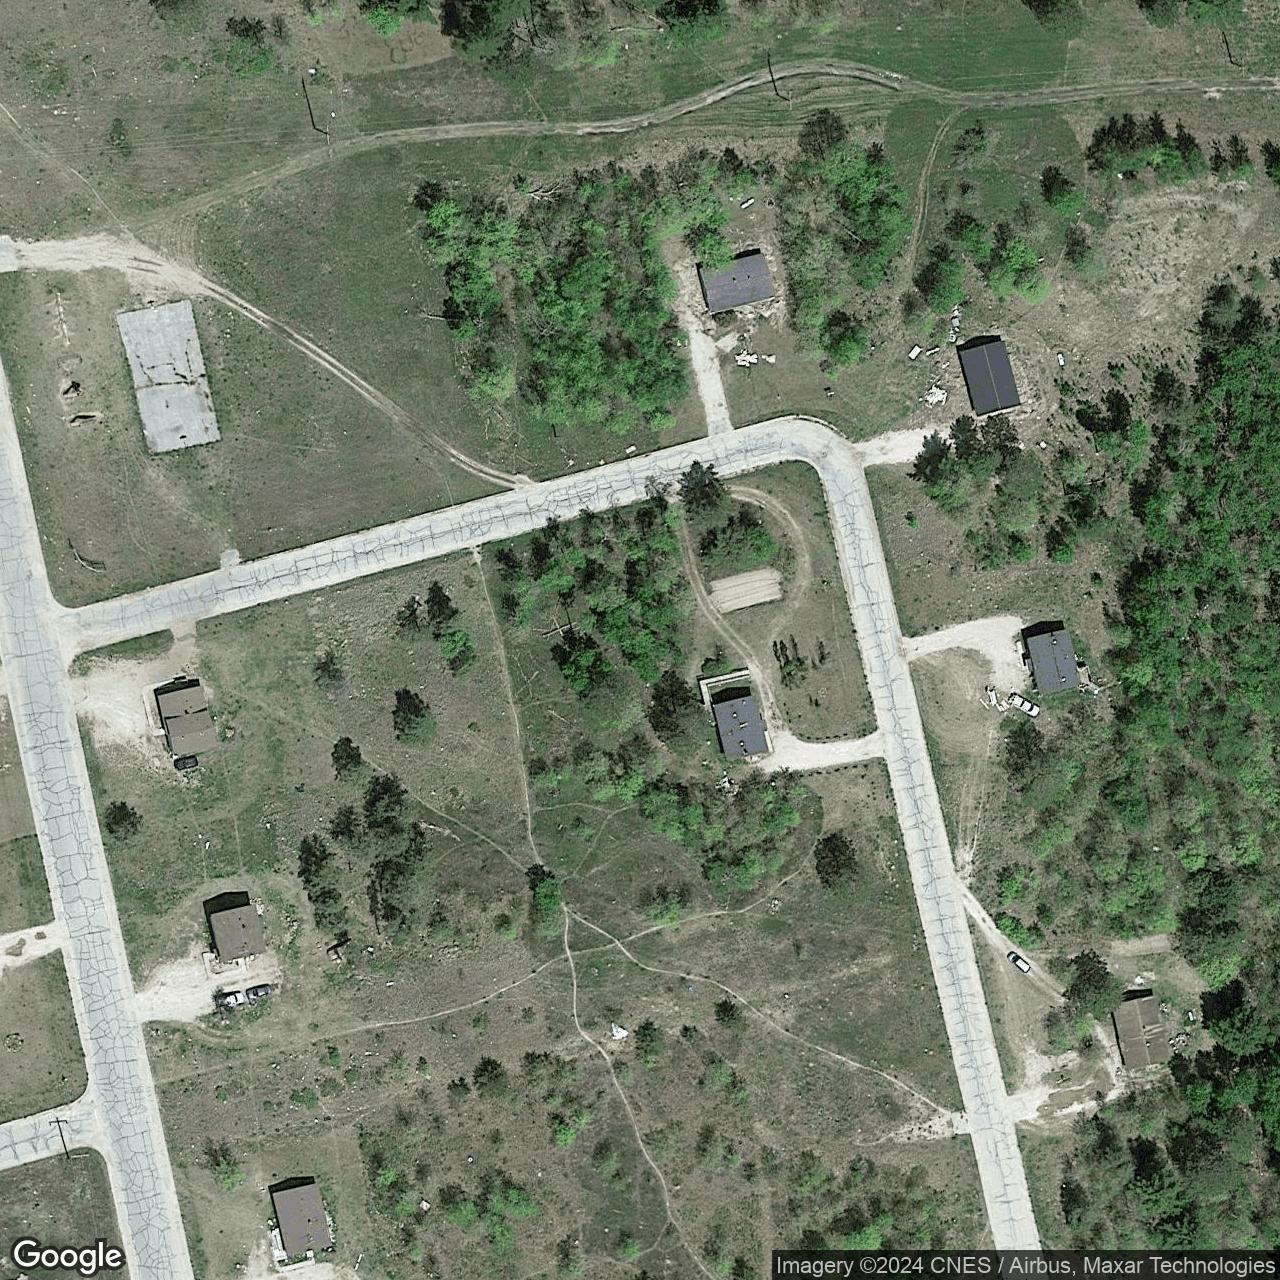House: (954, 339, 1023, 418), (696, 250, 777, 316), (1109, 993, 1175, 1073), (270, 1180, 334, 1260), (154, 683, 222, 757), (1024, 626, 1084, 700), (207, 898, 268, 965), (712, 694, 771, 762)
Propane: (736, 195, 757, 211), (1055, 350, 1069, 369), (1186, 1009, 1194, 1022)
